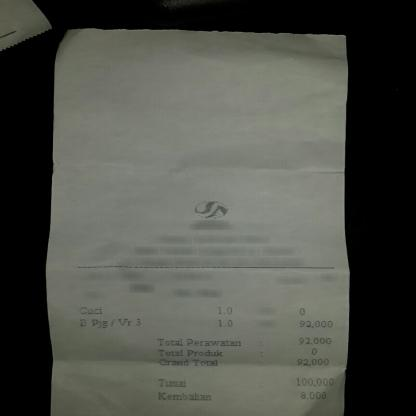receipts: (64, 34, 340, 416)
